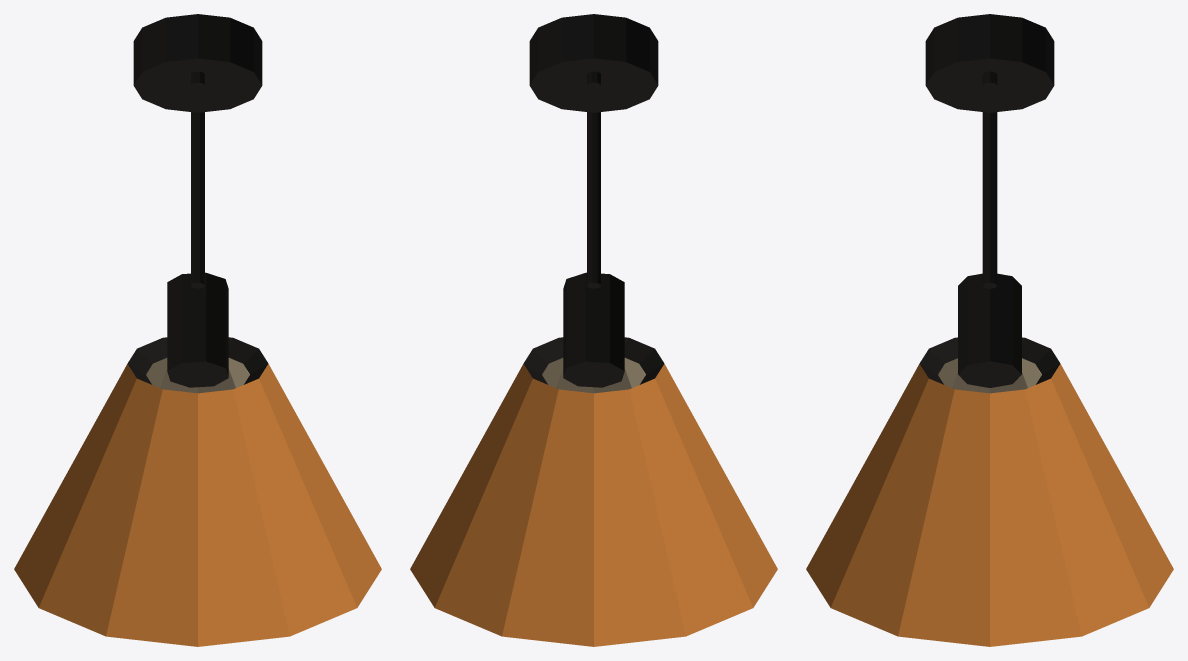
The model's file is pendant-light.obj.
The picture shows the model from 3 angles, left to right: view 1: azimuth 30°, elevation 25°; view 2: azimuth 150°, elevation 25°; view 3: azimuth 270°, elevation 25°; orthographic projection.
Visible parts, largest first — view 1: RetroCafe_PendantLight; view 2: RetroCafe_PendantLight; view 3: RetroCafe_PendantLight.
Part boxes in pixels (x1,y1,x2,y2): RetroCafe_PendantLight: (14, 14, 381, 646); RetroCafe_PendantLight: (410, 14, 777, 646); RetroCafe_PendantLight: (806, 14, 1173, 646).
Size of the model in its own units: 0.6 by 0.95 by 0.6.
